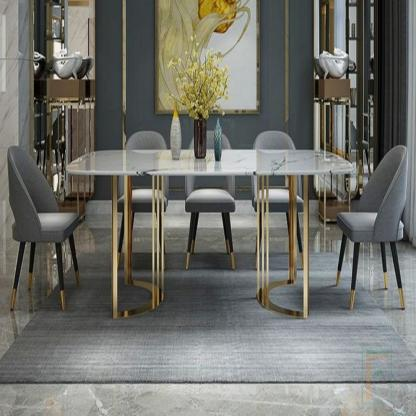Dining Table: (0, 109, 416, 327)
